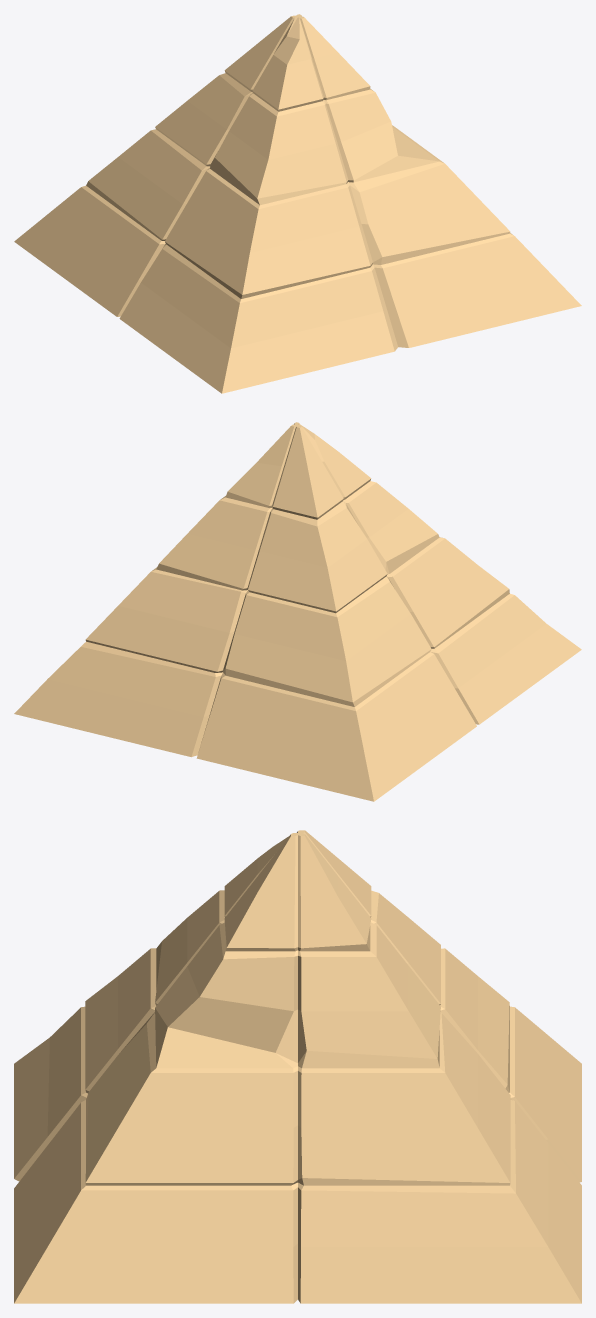
3 renders of one model, top to bottom at view 1: azimuth 30°, elevation 25°; view 2: azimuth 150°, elevation 25°; view 3: azimuth 270°, elevation 25°, orthographic. The views are drawn at different scales.
Parts seen in each view (by area): view 1: Pyramid01; view 2: Pyramid01; view 3: Pyramid01.
Part boxes in pixels (x1=…): Pyramid01: x1=14, y1=14, x2=581, y2=393; Pyramid01: x1=14, y1=422, x2=581, y2=801; Pyramid01: x1=14, y1=830, x2=581, y2=1303.
Size of the model in its own units: 2711 by 1847 by 2711.
